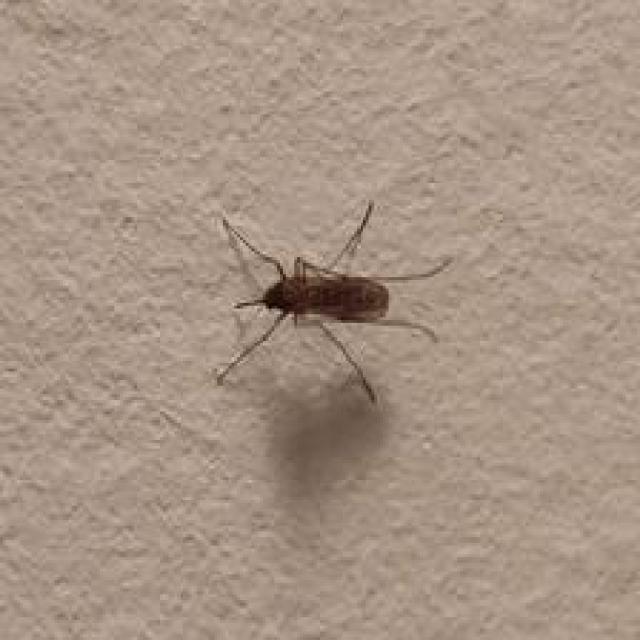Culex: (212, 197, 454, 406)
